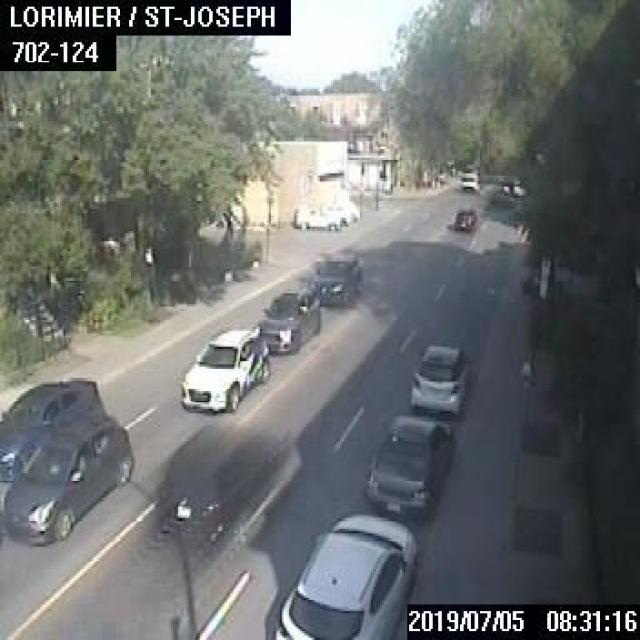vehicle: (0, 414, 133, 544), (275, 513, 412, 638), (155, 422, 284, 542), (0, 377, 104, 479), (364, 414, 452, 521), (178, 325, 266, 411), (409, 343, 469, 413), (259, 288, 319, 351), (309, 252, 361, 304), (293, 204, 339, 230), (452, 208, 474, 228), (460, 172, 476, 192)
